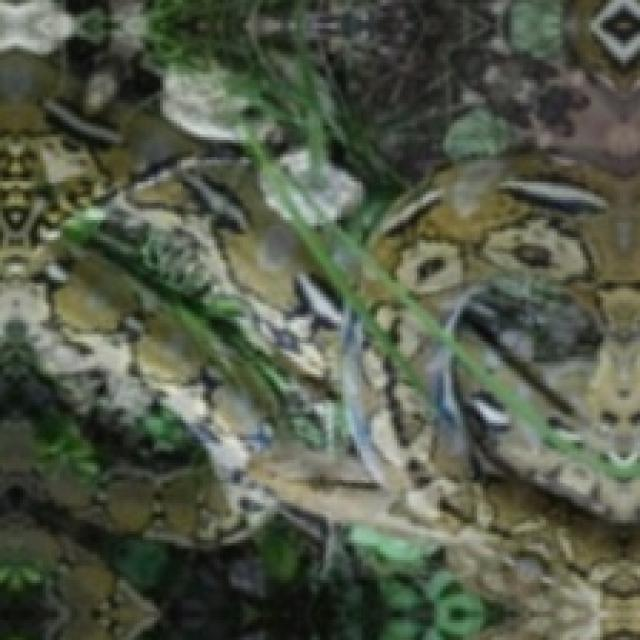reticulated python: (0, 32, 640, 640)
